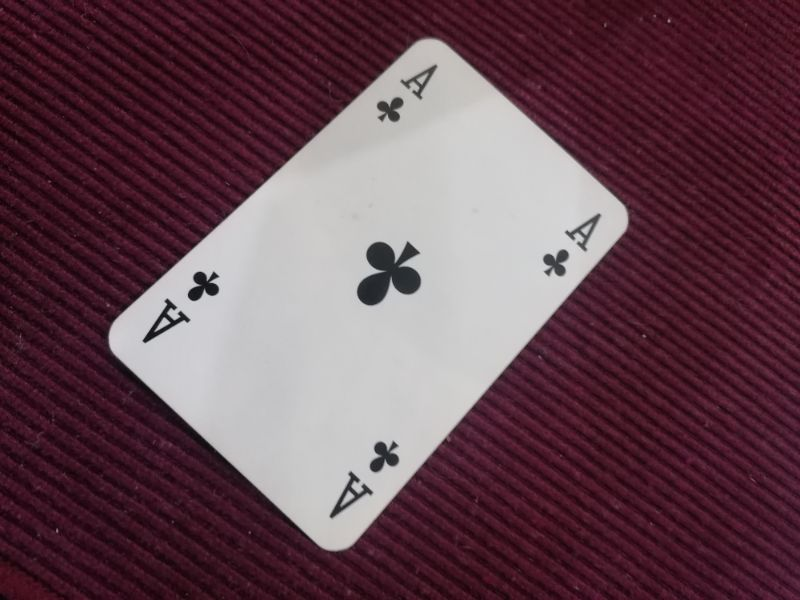Ac: (140, 268, 225, 349), (326, 438, 404, 523), (370, 59, 446, 129), (539, 208, 608, 283)
